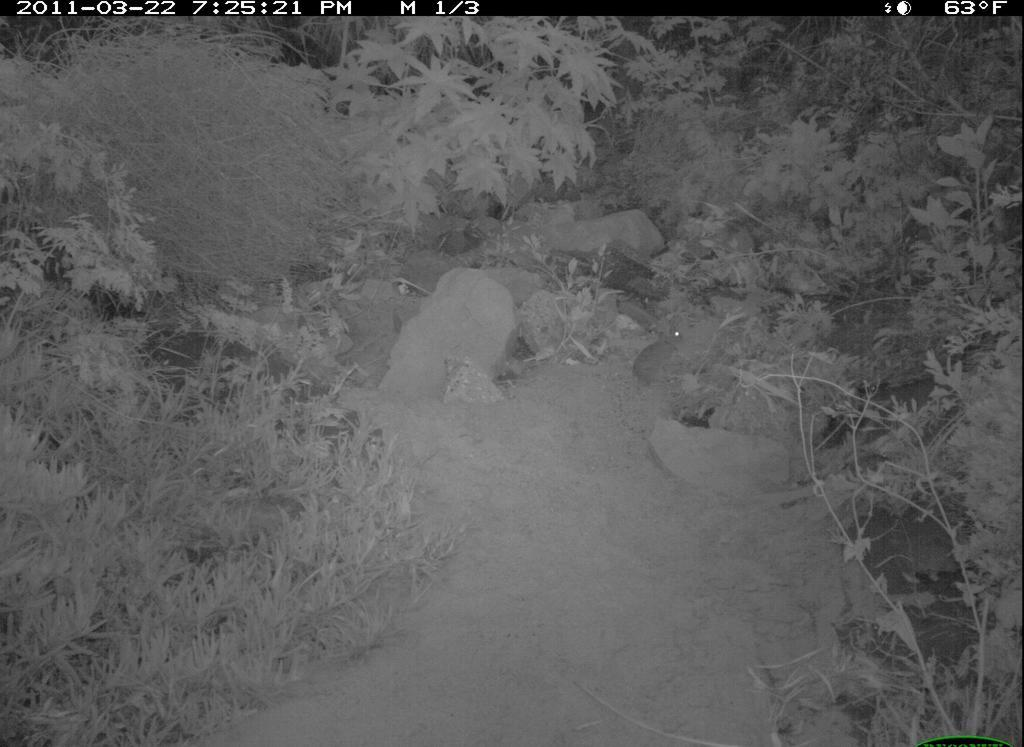rabbit: (626, 312, 696, 402)
